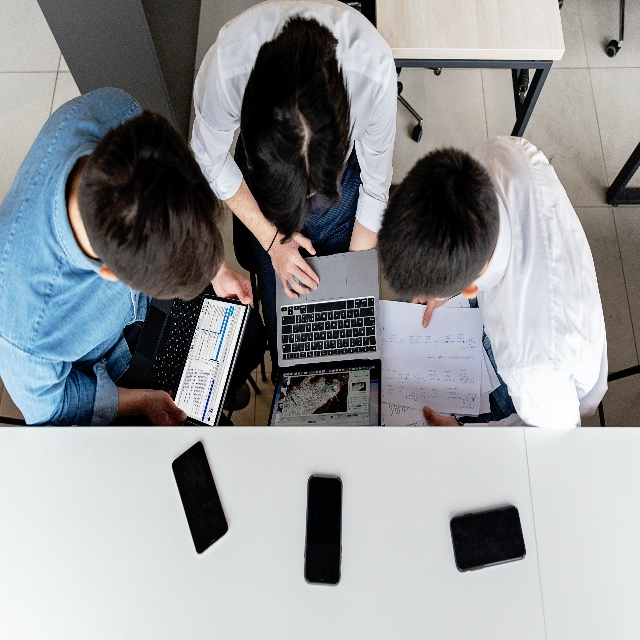Sin_guantes: (271, 233, 320, 299), (213, 262, 254, 307), (143, 387, 187, 426), (410, 295, 448, 329)
